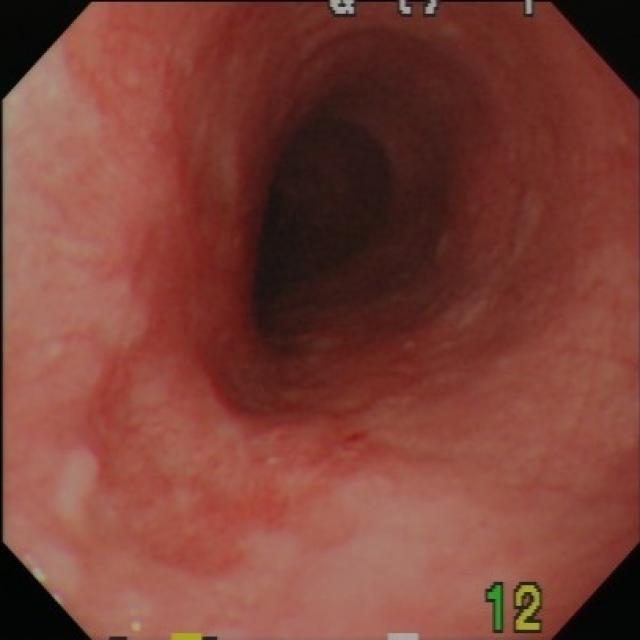A: (85, 347, 382, 588), (95, 52, 226, 347)
E: (246, 107, 407, 342)
J: (58, 445, 103, 539)
S: (485, 581, 547, 636), (325, 3, 545, 18)
